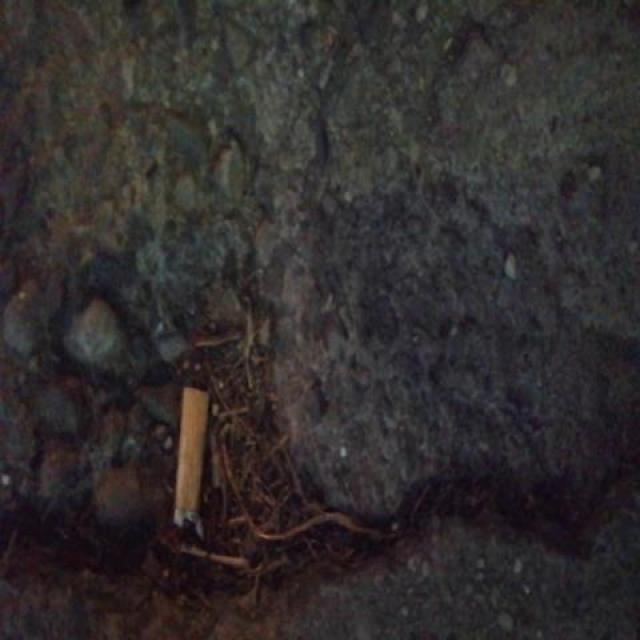non-organic waste: (168, 374, 215, 546)
